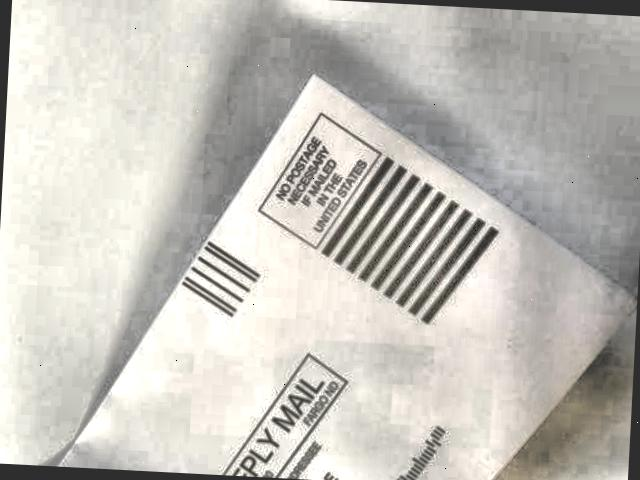Paper: (47, 55, 640, 480)
